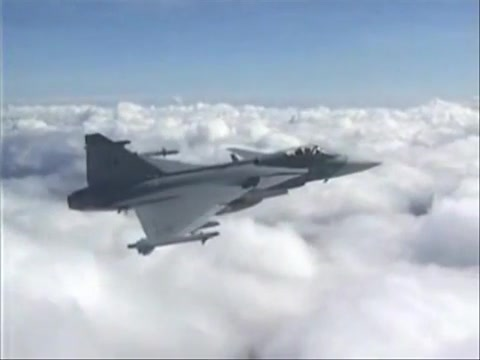aeroplane: (67, 124, 382, 258)
